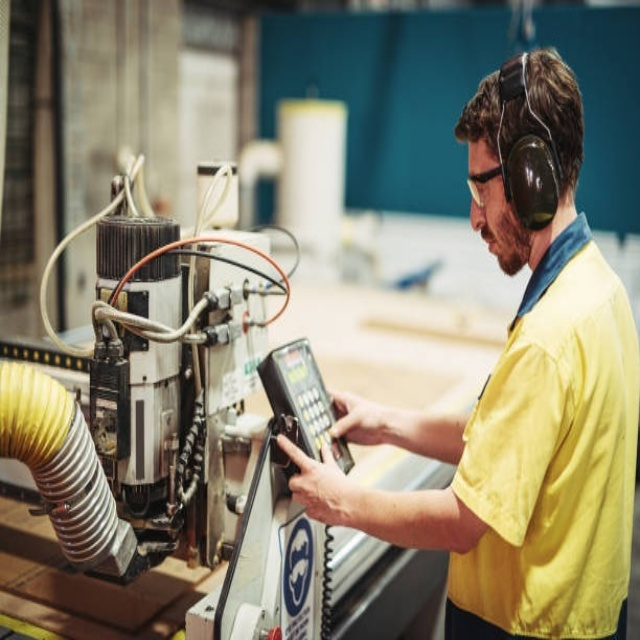Gafas: (467, 164, 503, 205)
Sin_guantes: (273, 434, 352, 528), (322, 391, 403, 450)
Sin_mascara: (475, 226, 512, 275)
